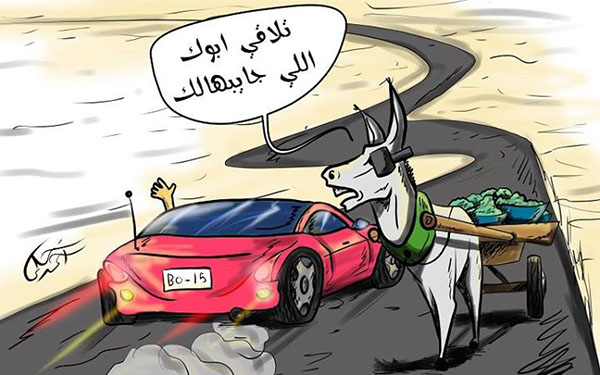car: (110, 159, 357, 343)
